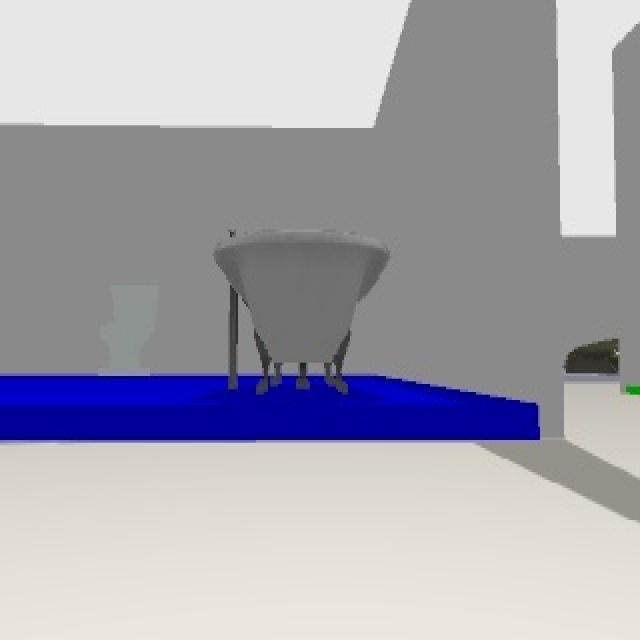bathtub: (212, 229, 392, 392)
